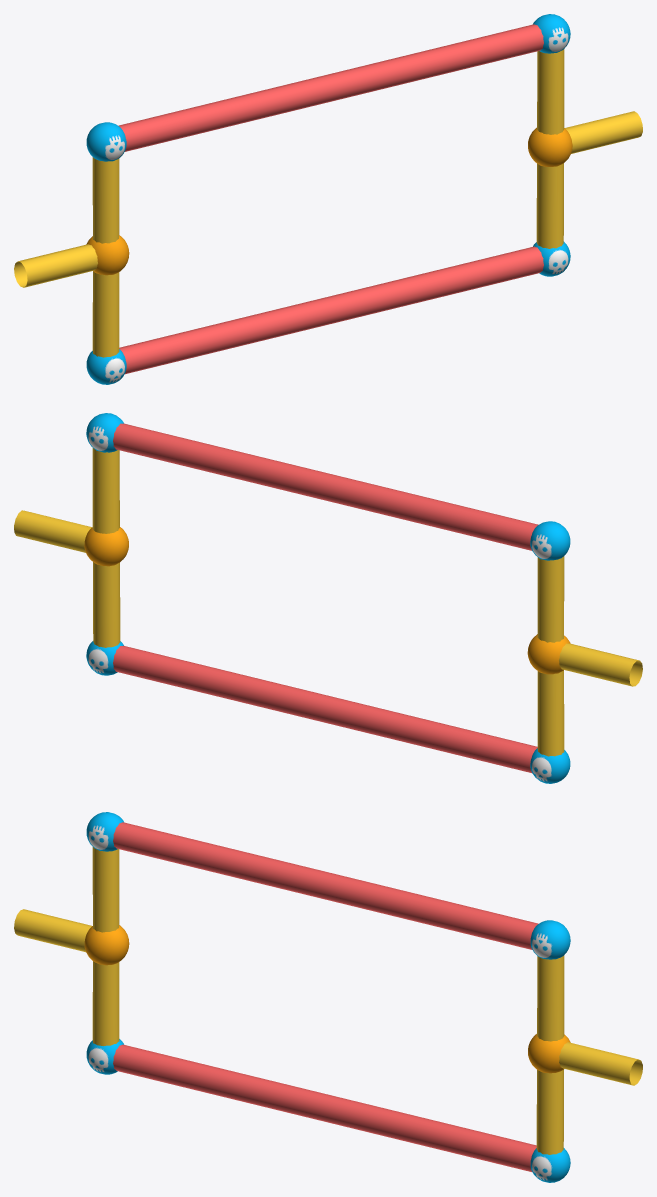
The model's file is rotate02.FBX.
3 views of the same model, one above another, from view 1: azimuth 30°, elevation 25°; view 2: azimuth 150°, elevation 25°; view 3: azimuth 330°, elevation 25° (orthographic).
Parts seen in each view (by area): view 1: rotate02; view 2: rotate02; view 3: rotate02.
Part boxes in pixels (bbox=[...]): rotate02: bbox=[14, 14, 642, 384]; rotate02: bbox=[14, 413, 642, 783]; rotate02: bbox=[14, 812, 642, 1182].
Size of the model in its own units: 18.11 by 7.28 by 1.14.
Materials: 1 (1 with a texture image).
